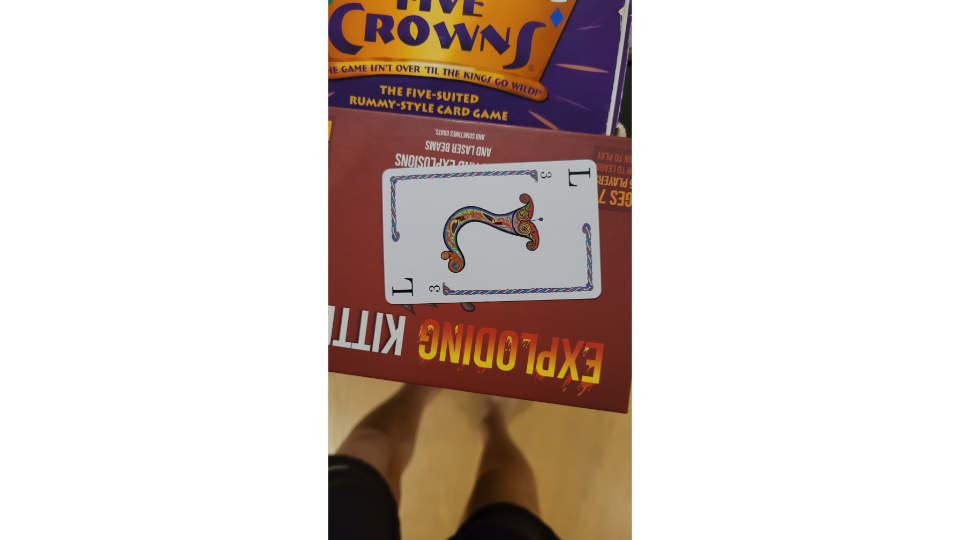L: (378, 156, 605, 306)
